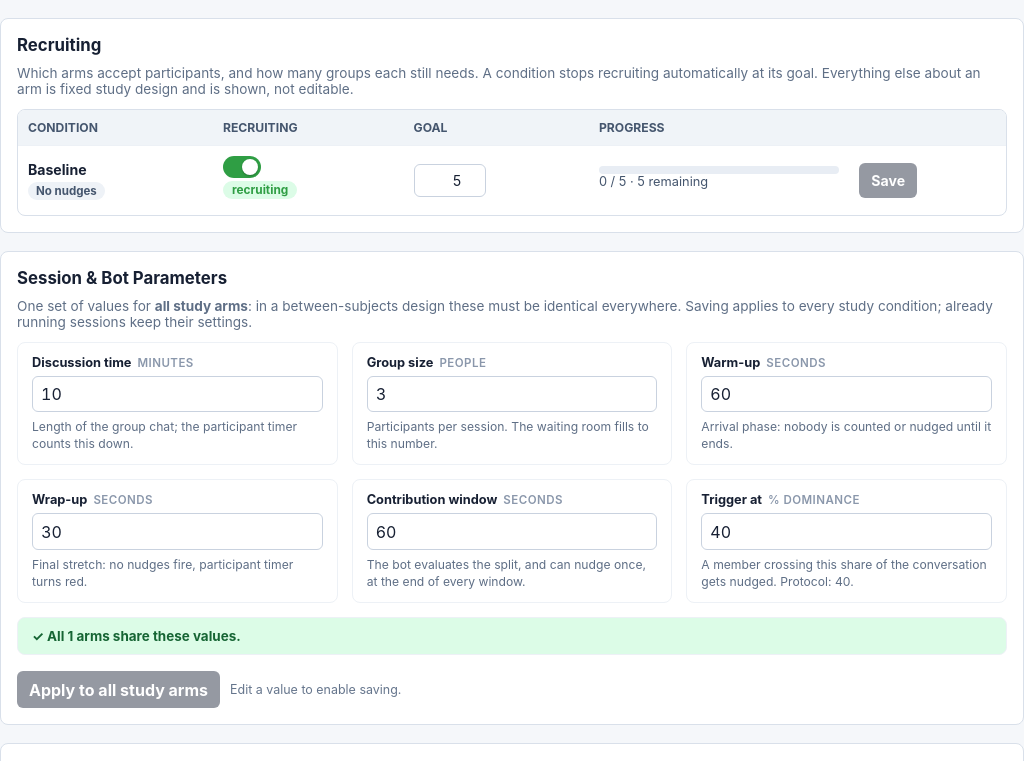
Test: SharedParamsCard › reports a partial failure and keeps the draft dirty
Replace the text in the number field labelled "Group size people" with "4" at {"x": 512, "y": 394}, box x1=367 y1=376 x2=657 y2=412
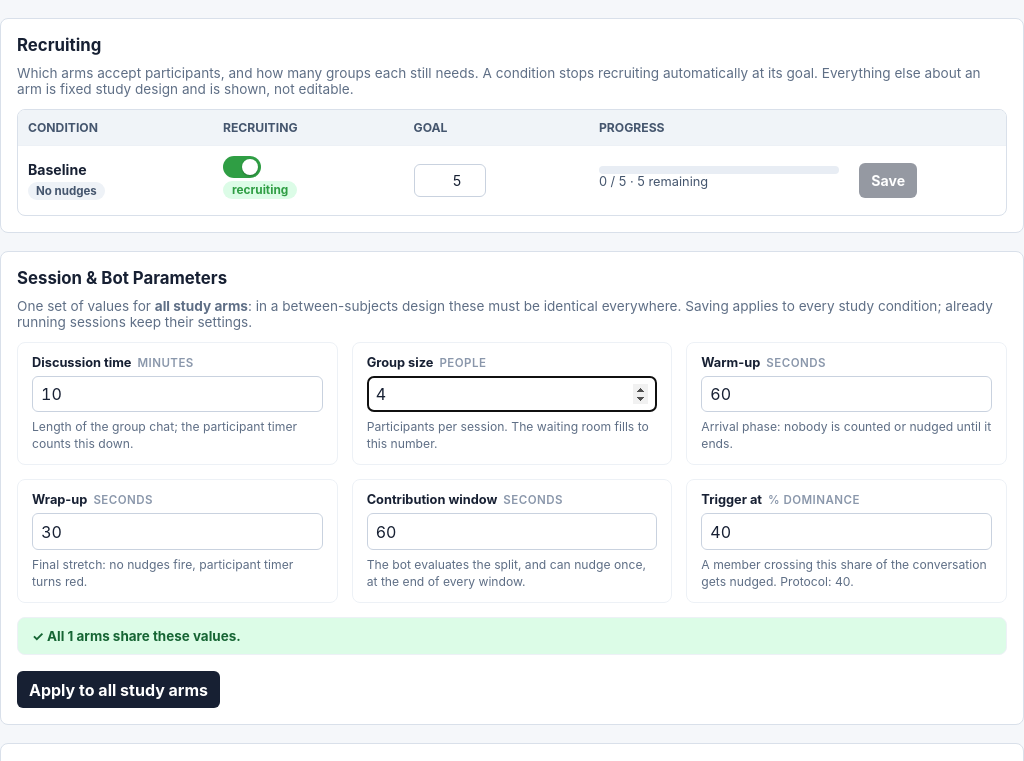
Click the button "Apply to all study arms" at {"x": 118, "y": 690}, box x1=17 y1=671 x2=220 y2=708
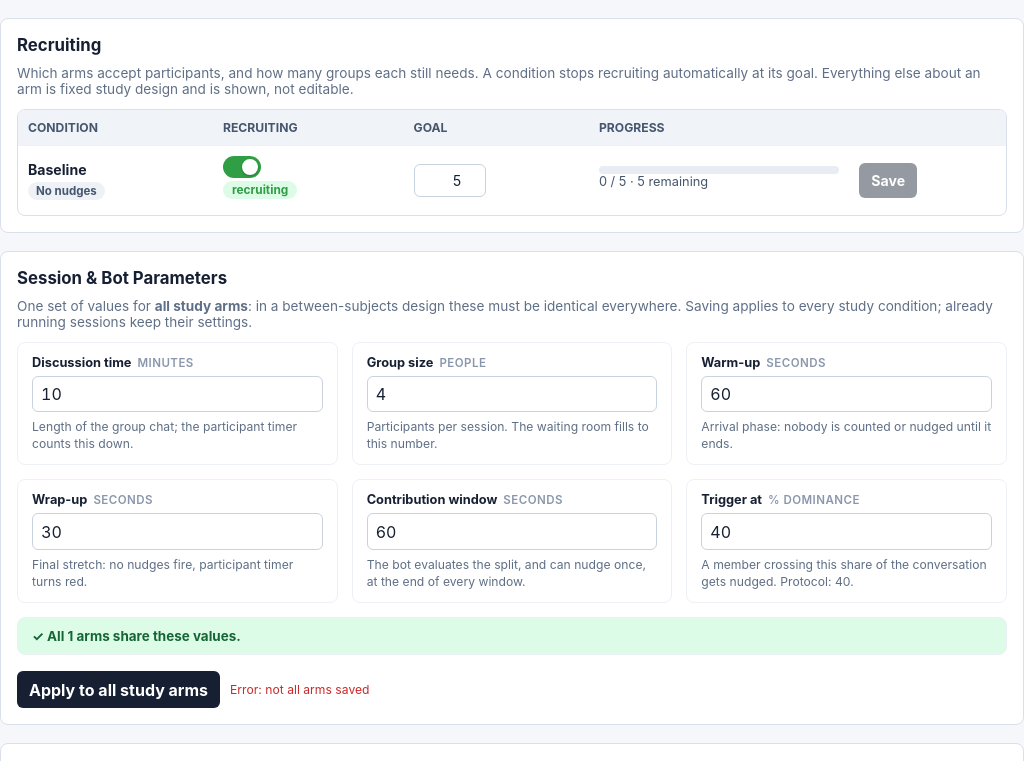
Expected: the button "Apply to all study arms" is enabled, x1=17 y1=671 x2=220 y2=708
Expected: the text "Error: not all arms saved" is shown, x1=230 y1=682 x2=370 y2=697
